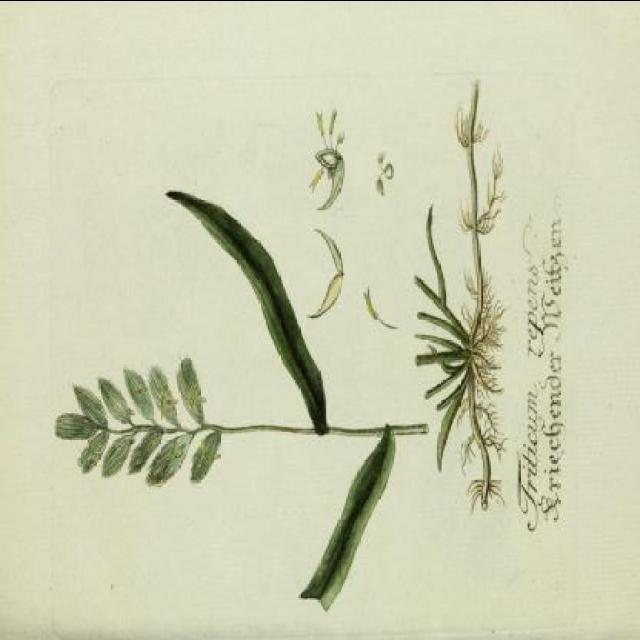Zucchini: (172, 174, 336, 448)
